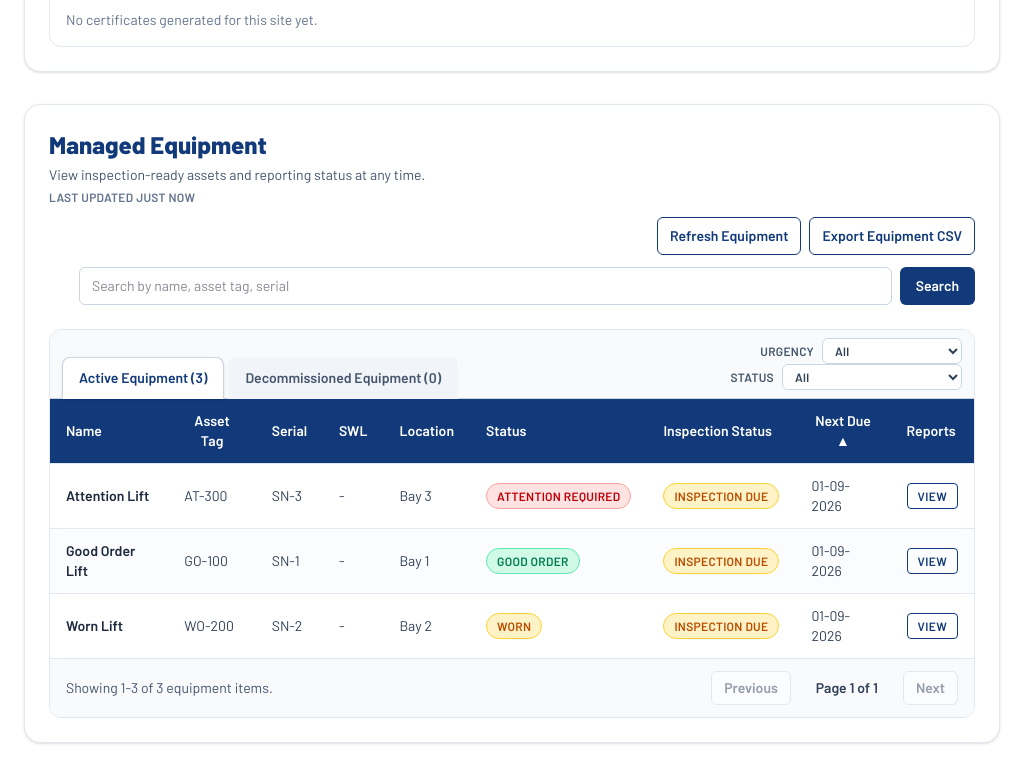
Test: PortalDashboardPage › filters equipment by managed status
The image size is (1024, 761).
(page scrolled)
Expected: the text "Good Order Lift" is shown, [50, 528, 168, 594]
Select "Worn" in the dropdown labelled "Status" at (872, 377), box [782, 364, 962, 390]
(page scrolled)
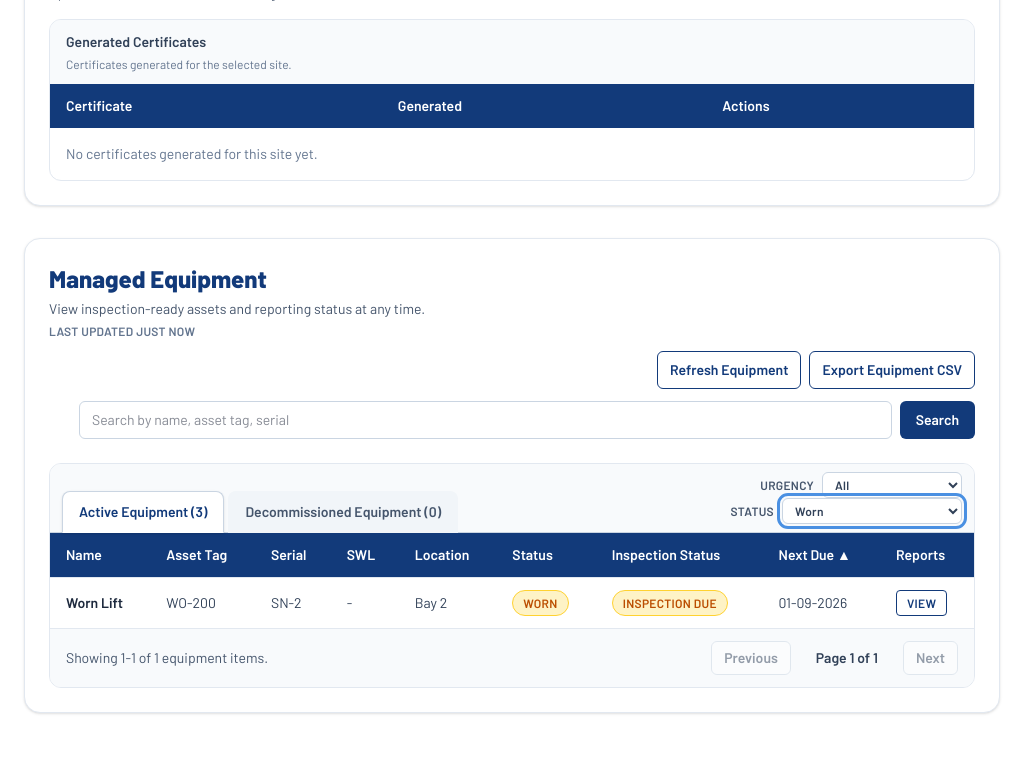
Expected: the text "Worn Lift" is shown, [50, 578, 150, 628]
Expected: the text "Good Order Lift" is gone
Expected: the text "Attention Lift" is gone
